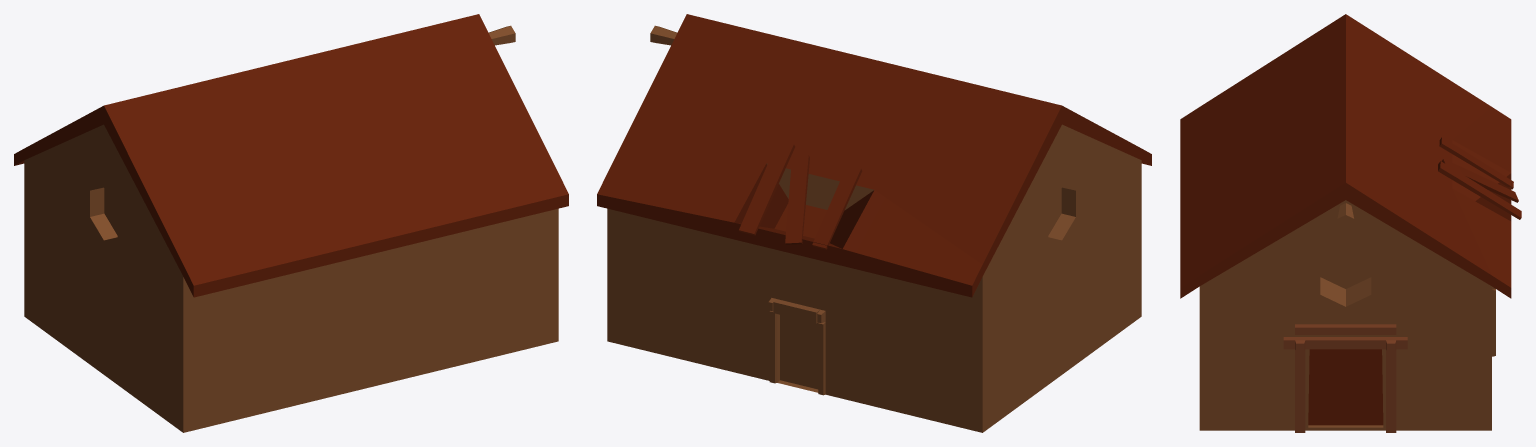
Rendered from Level 1 House 1.fbx.
3 renders of one model, left to right at view 1: azimuth 30°, elevation 25°; view 2: azimuth 150°, elevation 25°; view 3: azimuth 270°, elevation 25°, orthographic. The views are drawn at different scales.
Parts seen in each view (by area): view 1: Plane.008; view 2: Plane.008; view 3: Plane.008.
Part boxes in pixels (x1=…): Plane.008: x1=14, y1=14, x2=568, y2=432; Plane.008: x1=597, y1=14, x2=1151, y2=432; Plane.008: x1=1180, y1=14, x2=1521, y2=432.
Size of the model in its own units: 1266 by 800 by 998.
